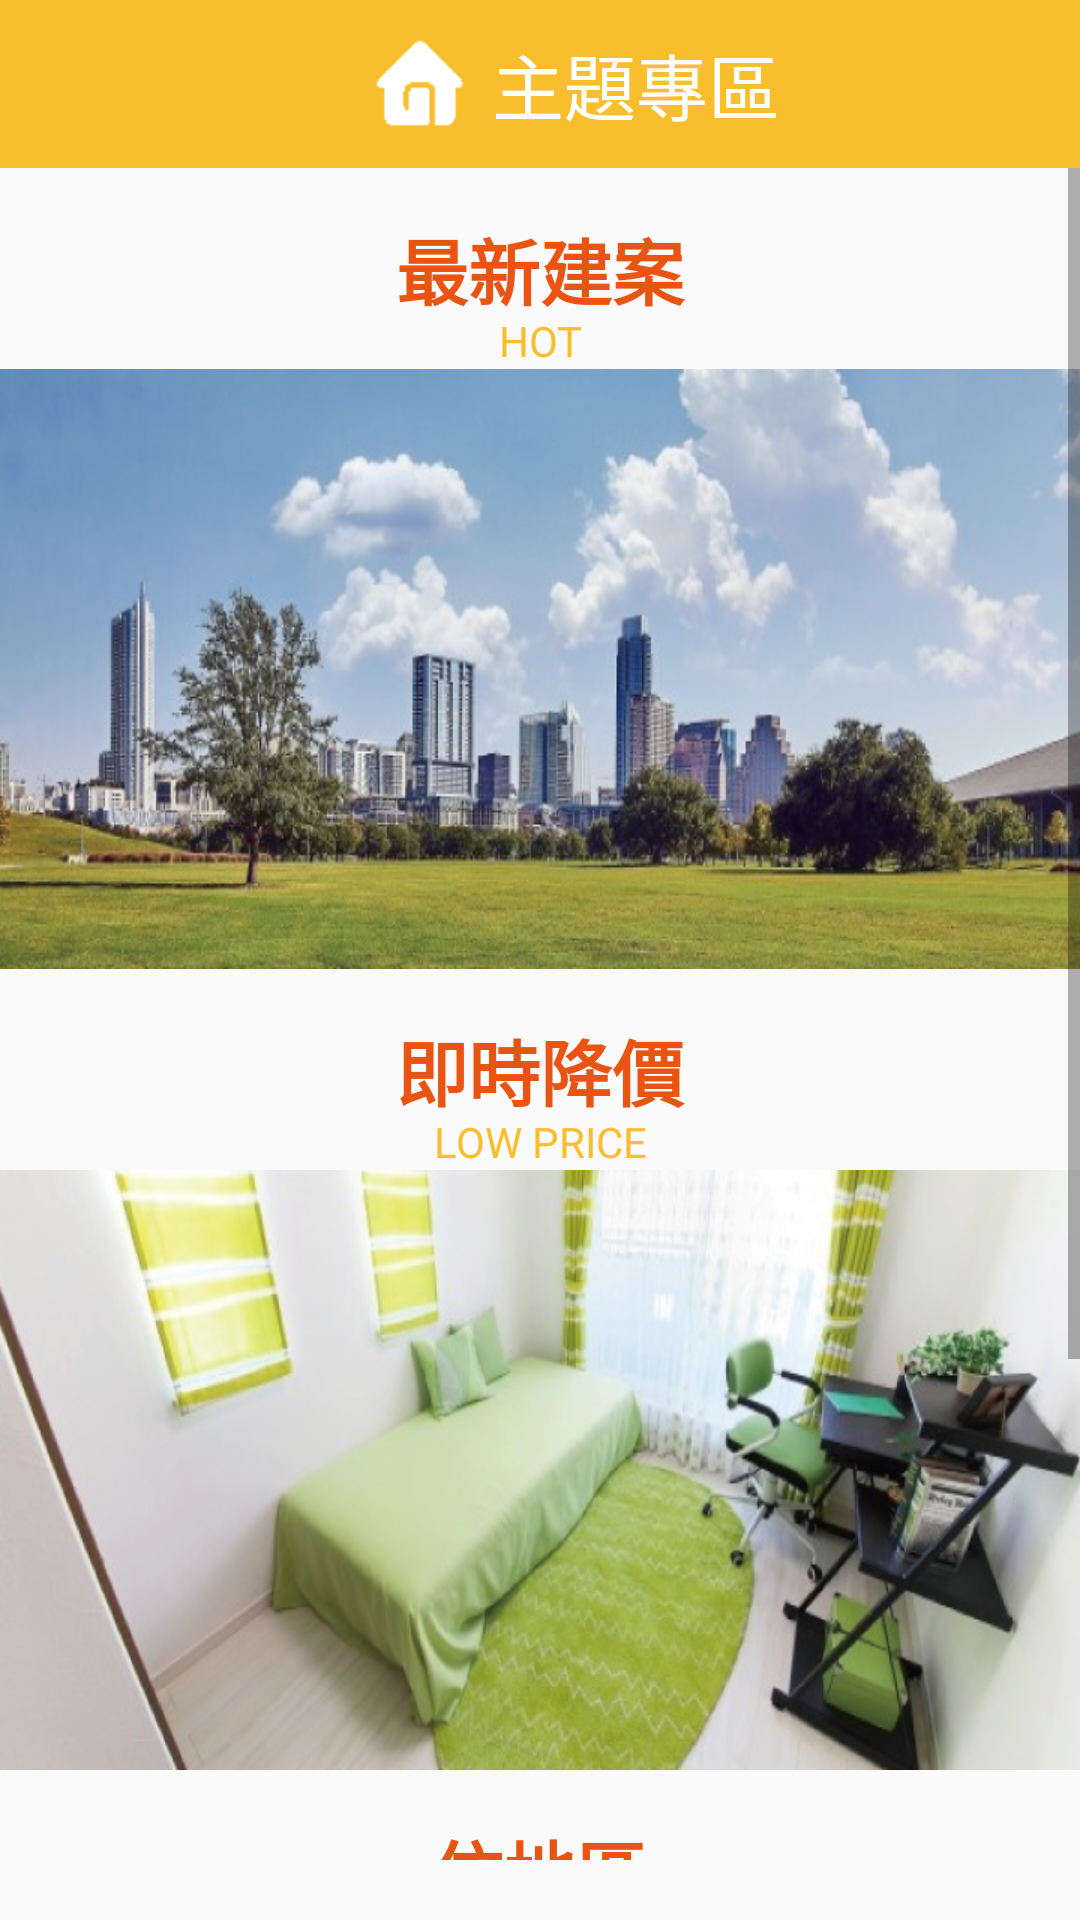

Screen size 1080px x 1920px. Icon name, then its box in pixels as BBox(x1, y1, x2, y2):
sidebar buttons home: BBox(376, 40, 464, 126)
